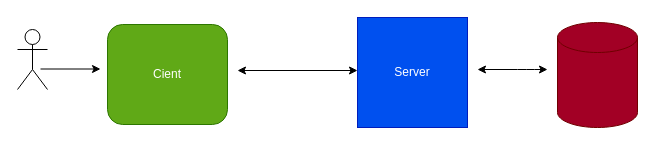
The diagram is 655 pixels wide and 145 high, and some of its shapes have lost their labels. Here are the shapes that lost their labels. From the top down, the centre of each, then its label:
point (32, 59): Actor
point (597, 75): Database
